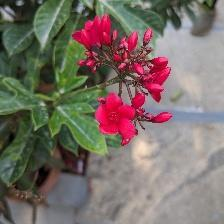jatropha: (97, 96, 140, 142)
